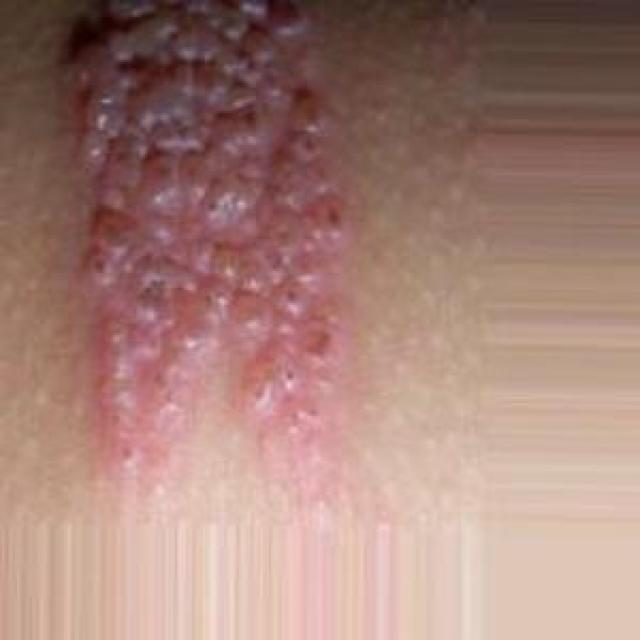Shingles: (58, 0, 340, 496)
